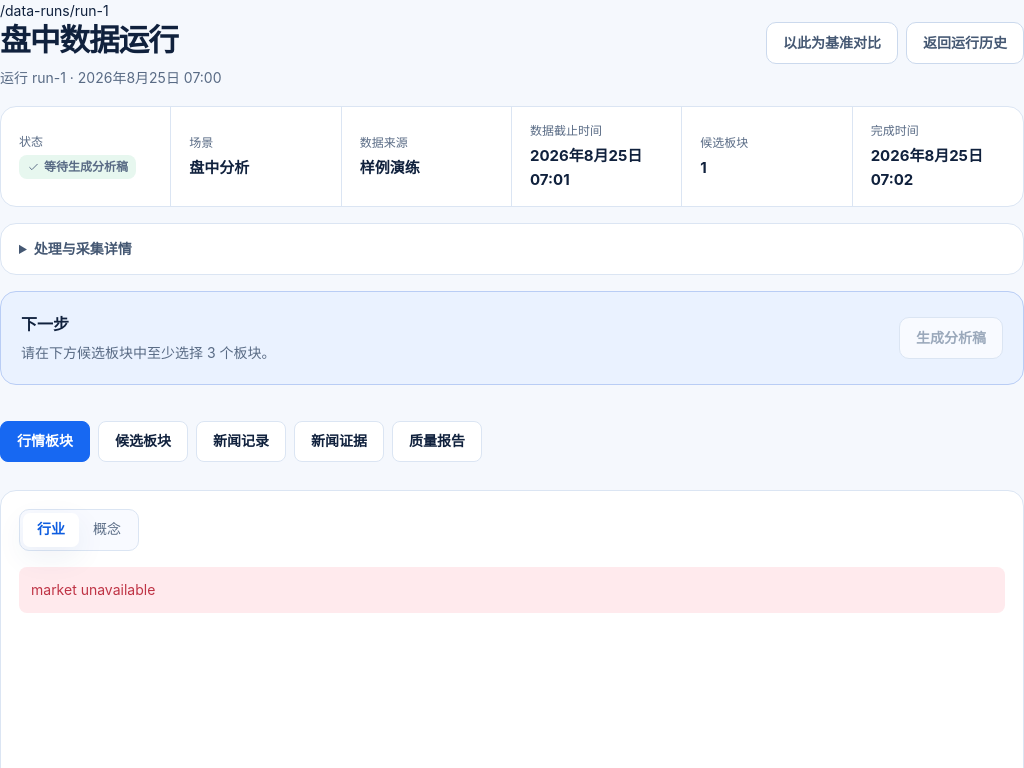
Test: keeps other panels usable when market loading fails
The image size is (1024, 768).
Expected: the text "market unavailable" is shown, [19,567,1005,613]
Click the tab "候选板块". click: coordinates (143, 441)
box: [98,421,188,462]
(page scrolled)
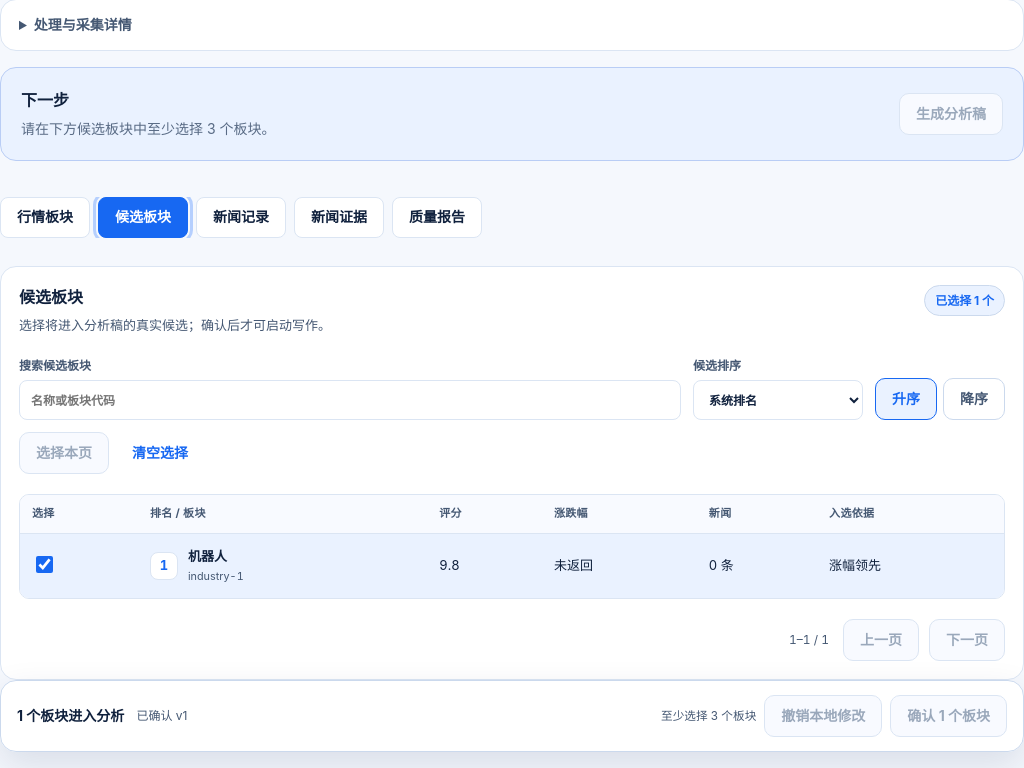
Now the text "机器人" is shown, box [188,548,227,564]
